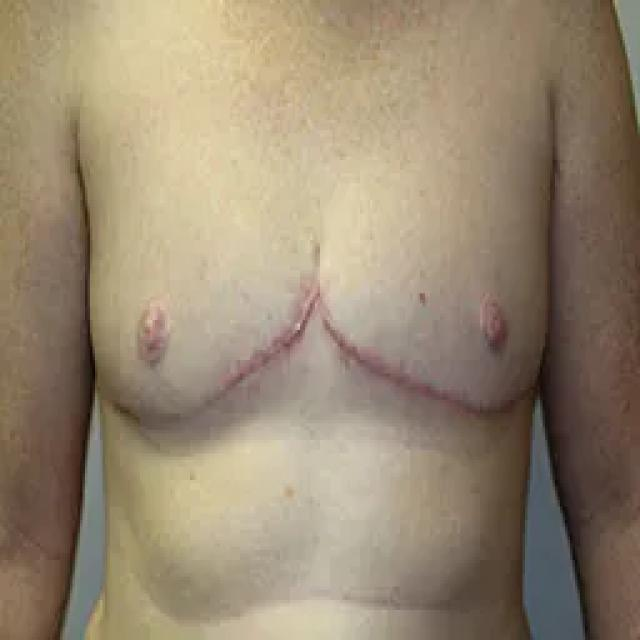Seno herido: (84, 166, 319, 440), (323, 165, 550, 441)
